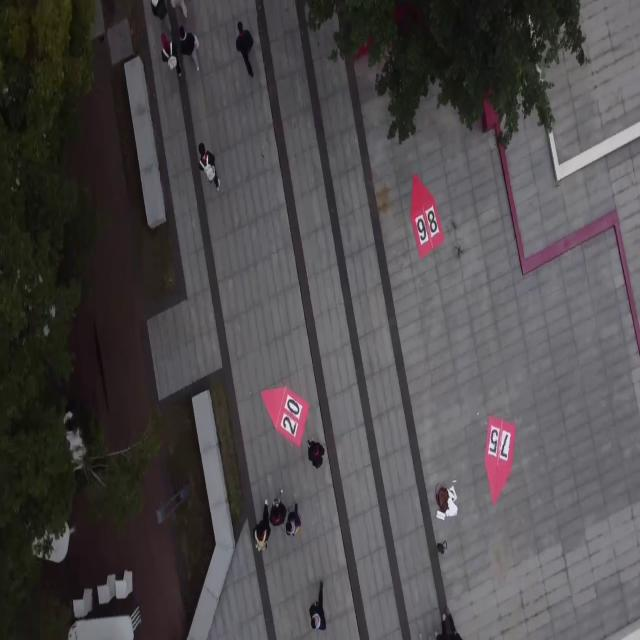-sign-: (410, 172, 444, 260), (262, 386, 309, 448), (484, 420, 514, 506)
